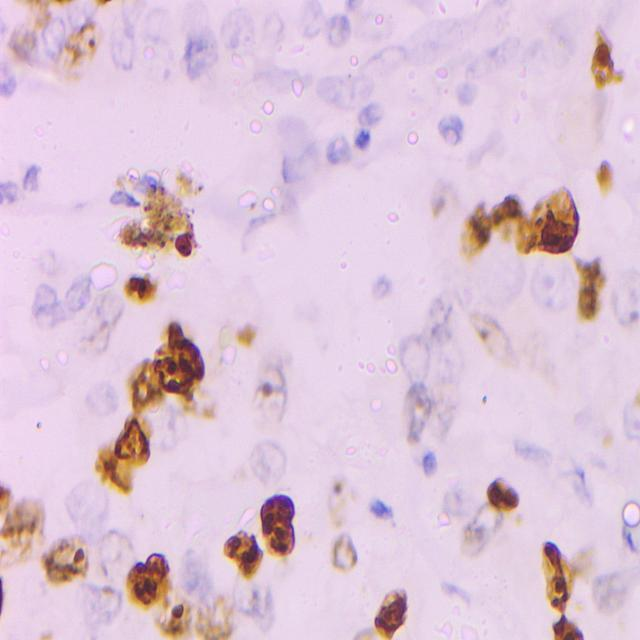Healthy cell: (277, 116, 315, 183), (320, 73, 377, 109), (113, 169, 173, 202), (438, 579, 478, 628), (186, 27, 217, 84), (79, 379, 124, 418), (112, 0, 134, 77), (67, 482, 106, 524), (220, 8, 256, 52), (432, 109, 466, 153), (323, 12, 360, 50), (32, 289, 64, 329), (0, 169, 20, 213), (326, 136, 352, 169), (64, 279, 88, 310), (22, 158, 40, 192), (373, 273, 396, 299), (454, 73, 472, 103), (443, 491, 461, 508)
cancer-cell-QiJm: (8, 0, 112, 78), (512, 189, 586, 258), (153, 320, 204, 406), (472, 312, 526, 377), (140, 182, 207, 230), (574, 253, 618, 324), (584, 558, 640, 613), (447, 204, 499, 260), (128, 547, 176, 605), (213, 318, 267, 368), (592, 23, 630, 94), (118, 219, 192, 255), (0, 493, 37, 562), (536, 540, 572, 610), (46, 527, 91, 583), (529, 260, 573, 316), (92, 445, 138, 496), (232, 576, 280, 623), (503, 426, 552, 472), (489, 469, 525, 530), (255, 368, 292, 427), (122, 409, 156, 471), (462, 503, 502, 555), (424, 283, 456, 347), (326, 530, 371, 575), (370, 588, 414, 634), (242, 436, 288, 480), (220, 534, 262, 582), (150, 596, 195, 640), (595, 153, 629, 207), (429, 378, 456, 444), (322, 473, 354, 528), (397, 334, 432, 384), (492, 188, 525, 240), (403, 386, 428, 452), (0, 569, 24, 637), (72, 316, 114, 354), (99, 530, 134, 575), (201, 591, 233, 640), (129, 355, 155, 415), (174, 167, 214, 206), (426, 182, 460, 226), (123, 273, 170, 304), (186, 384, 220, 426), (262, 487, 296, 527), (260, 527, 294, 566), (89, 290, 123, 327), (552, 606, 588, 640), (570, 547, 592, 591), (356, 623, 403, 640), (176, 232, 206, 258), (0, 478, 17, 520), (590, 418, 616, 442), (95, 578, 116, 599), (33, 621, 55, 640), (633, 370, 640, 421), (29, 416, 49, 433)
